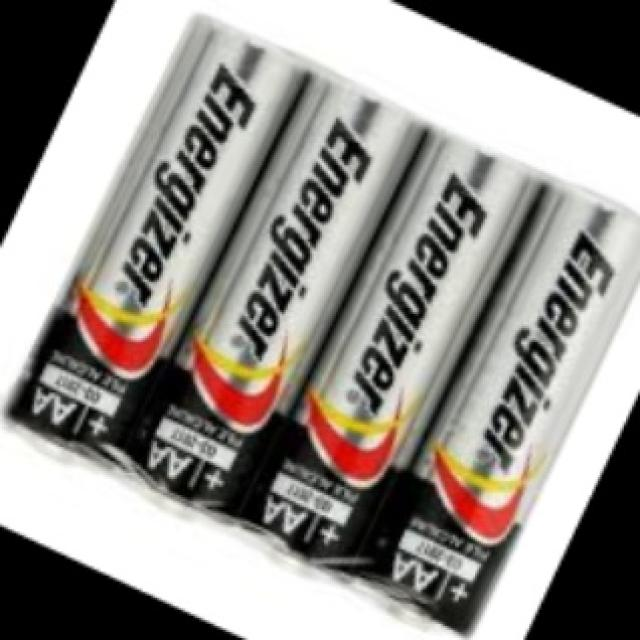elektronik: (192, 28, 552, 612), (120, 56, 372, 496)
